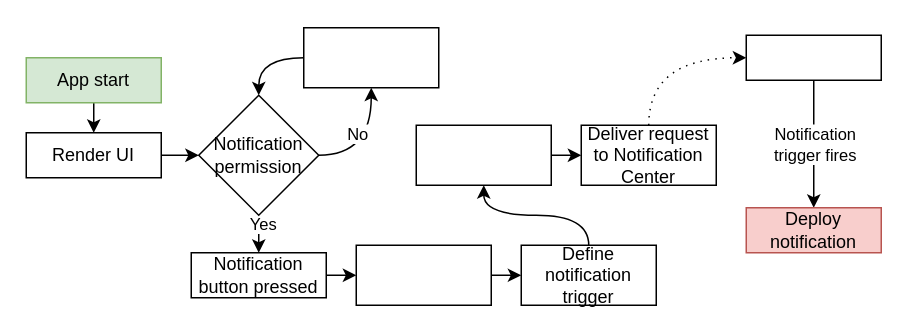
Image size: 908x333. Some labels were removed from this diagram. Each missing label, with the box of its shape:
Authorize notification permission: (302, 26, 439, 88)
Create notification request: (415, 124, 551, 185)
Define notification content: (355, 244, 491, 305)
Notification Center: (745, 34, 881, 80)
